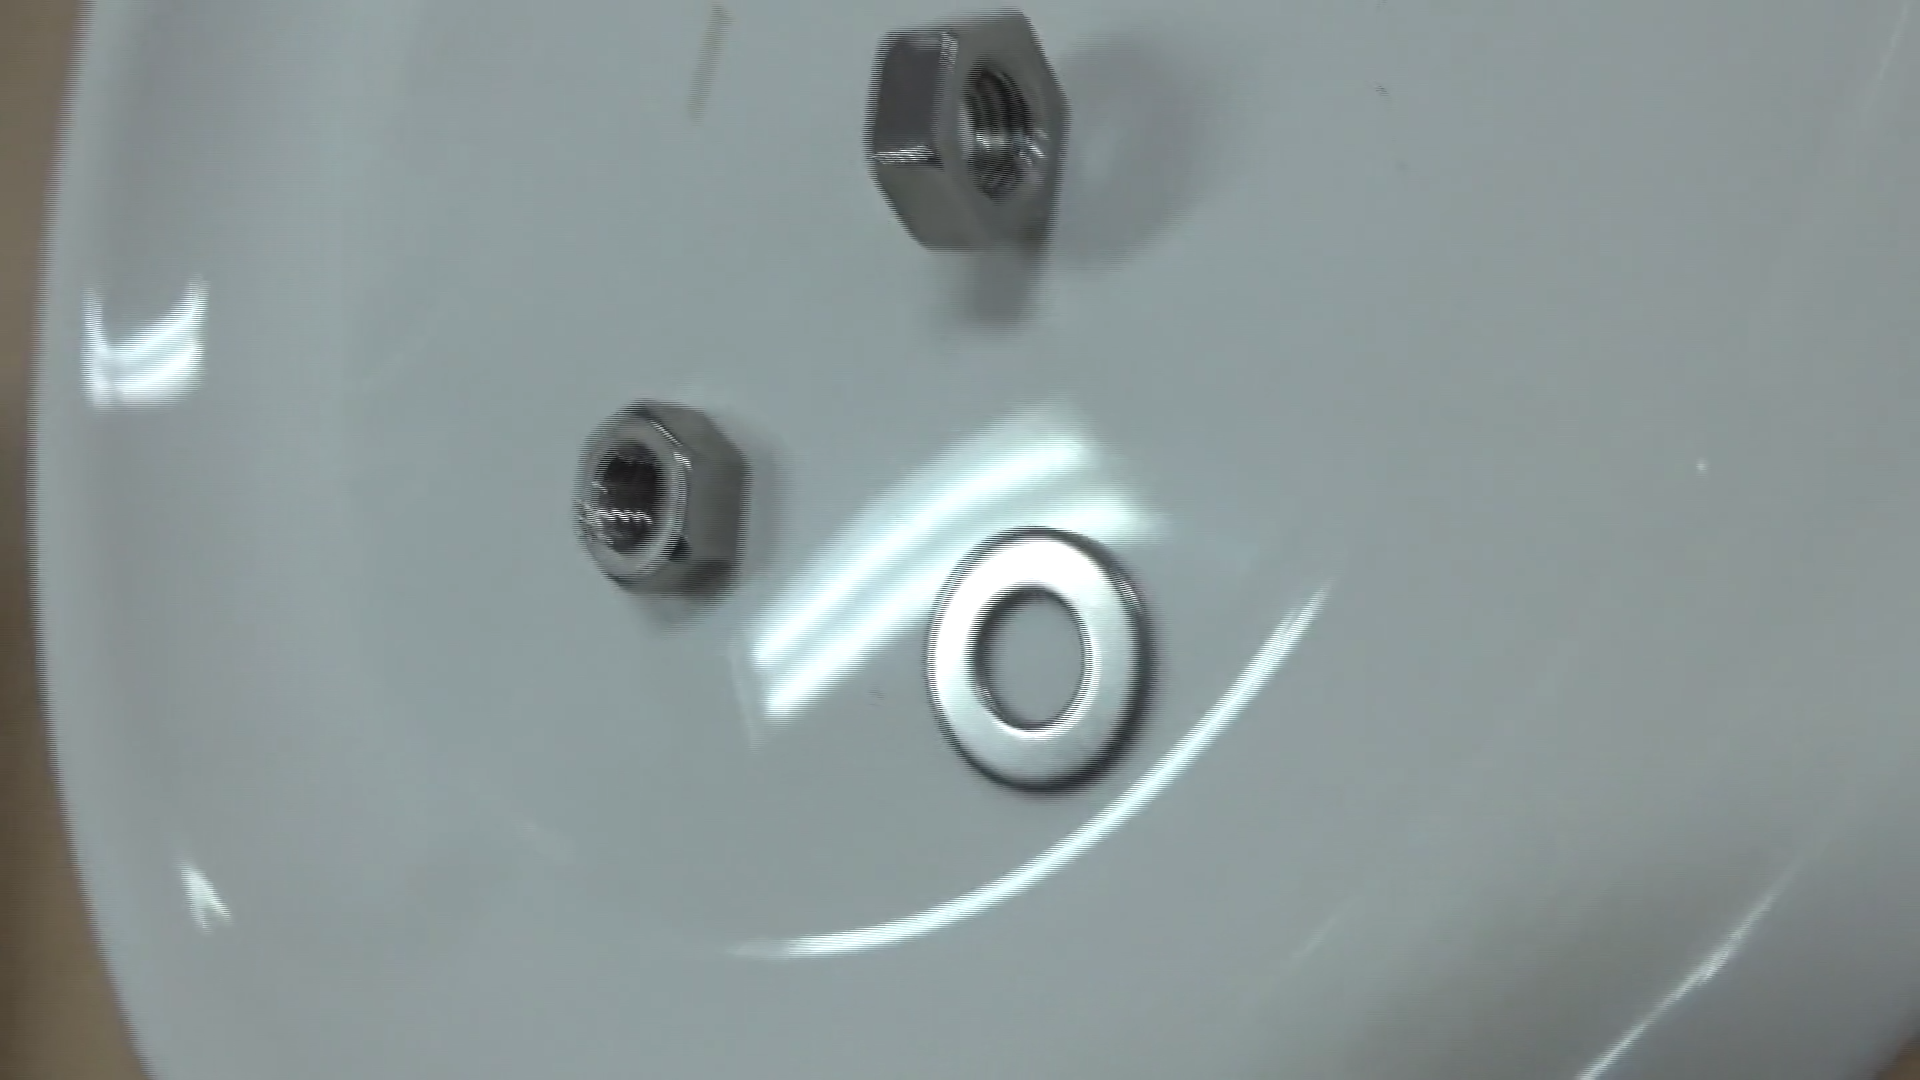nut: (836, 3, 1097, 264), (553, 378, 762, 607)
washer: (905, 506, 1175, 790)
